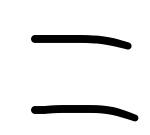eqv: (31, 34, 139, 122)
